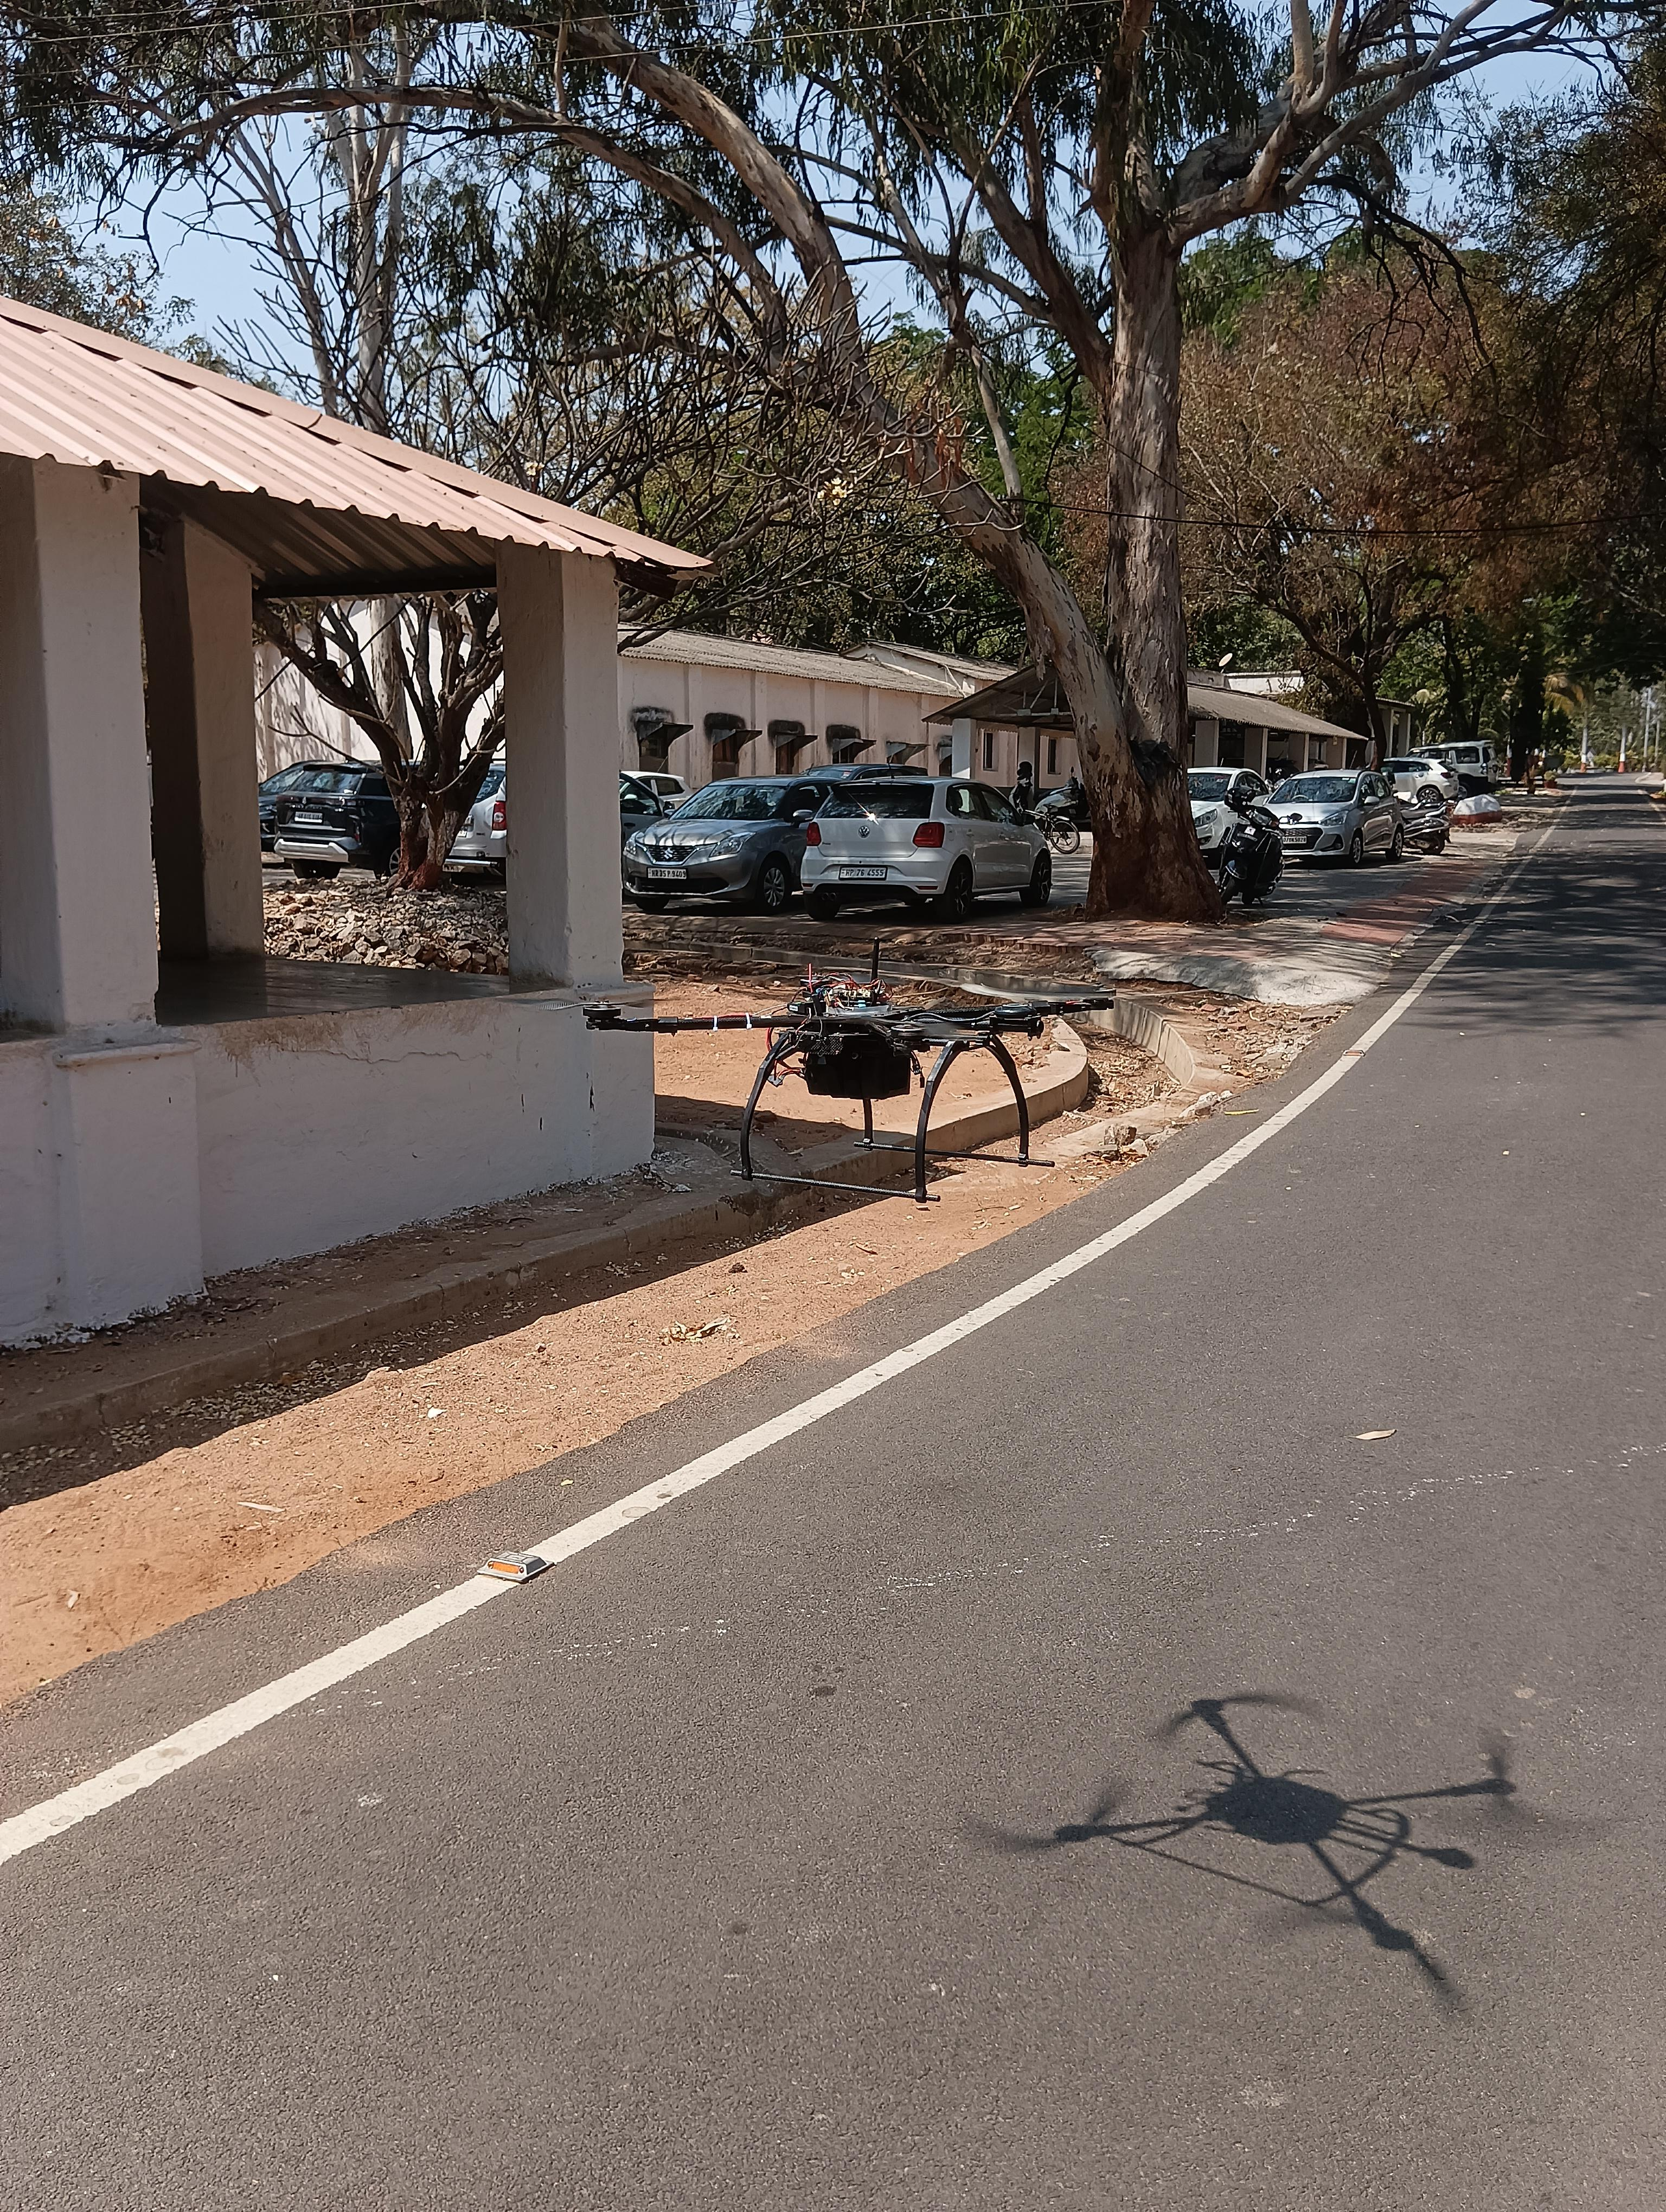drone: (495, 885, 1215, 1261)
